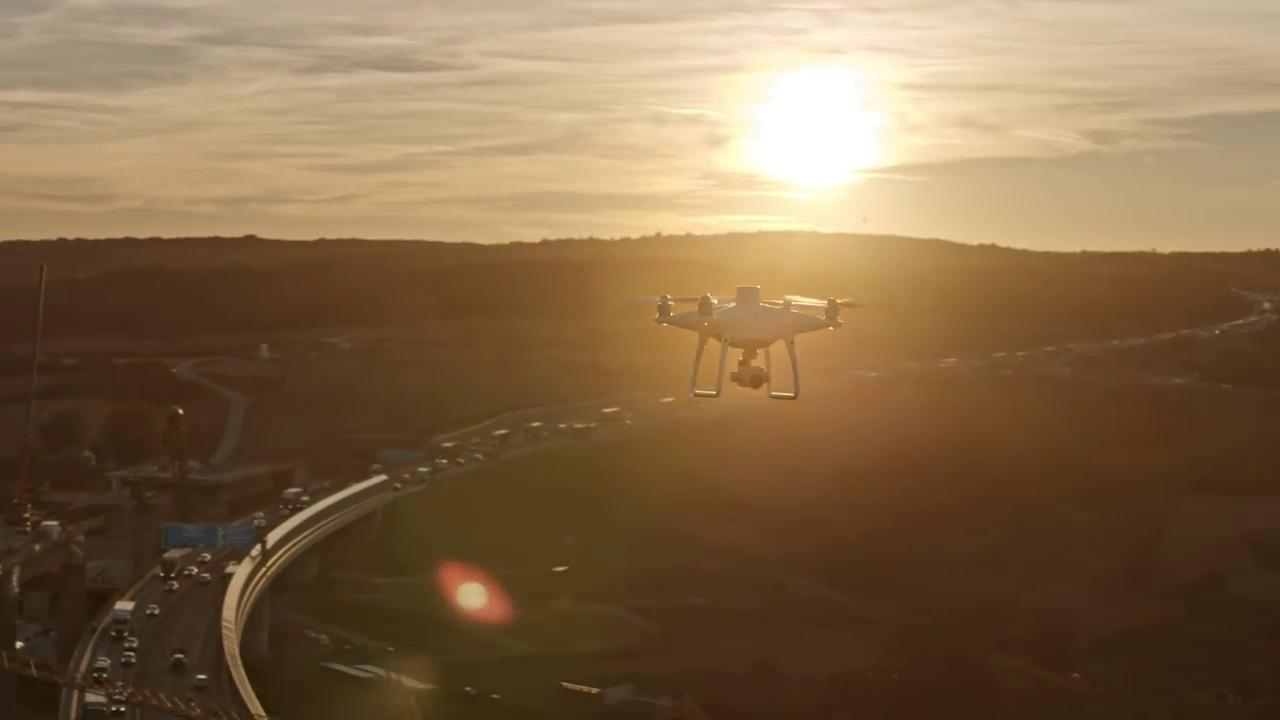drone: (634, 283, 866, 398)
